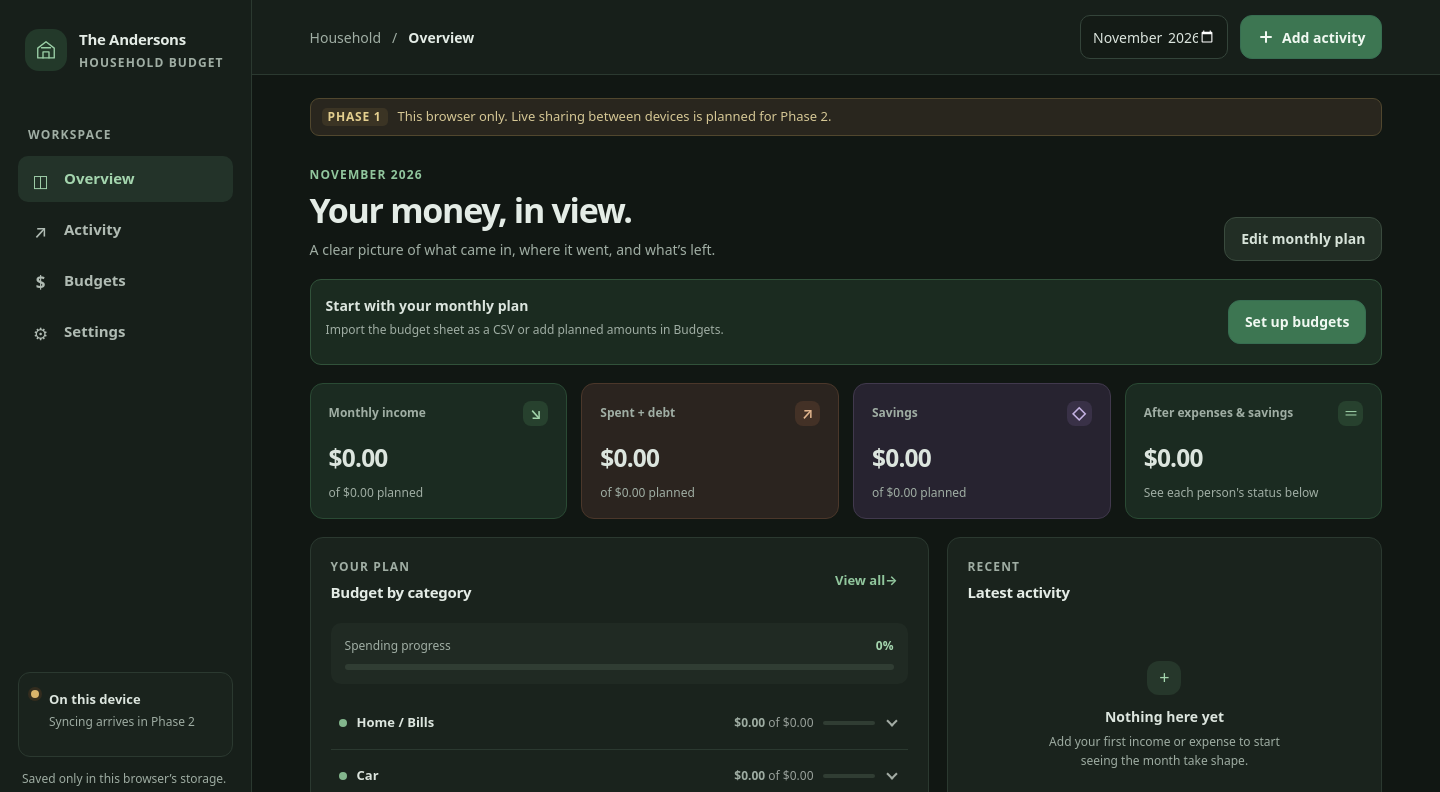
it: budget app phase 1 › allows navigating to the category budget editor
What coordinates should you click on to do the following:
click the button "$ Budgets"
I would click on:
 (126, 280)
Its box is [18, 258, 233, 304].
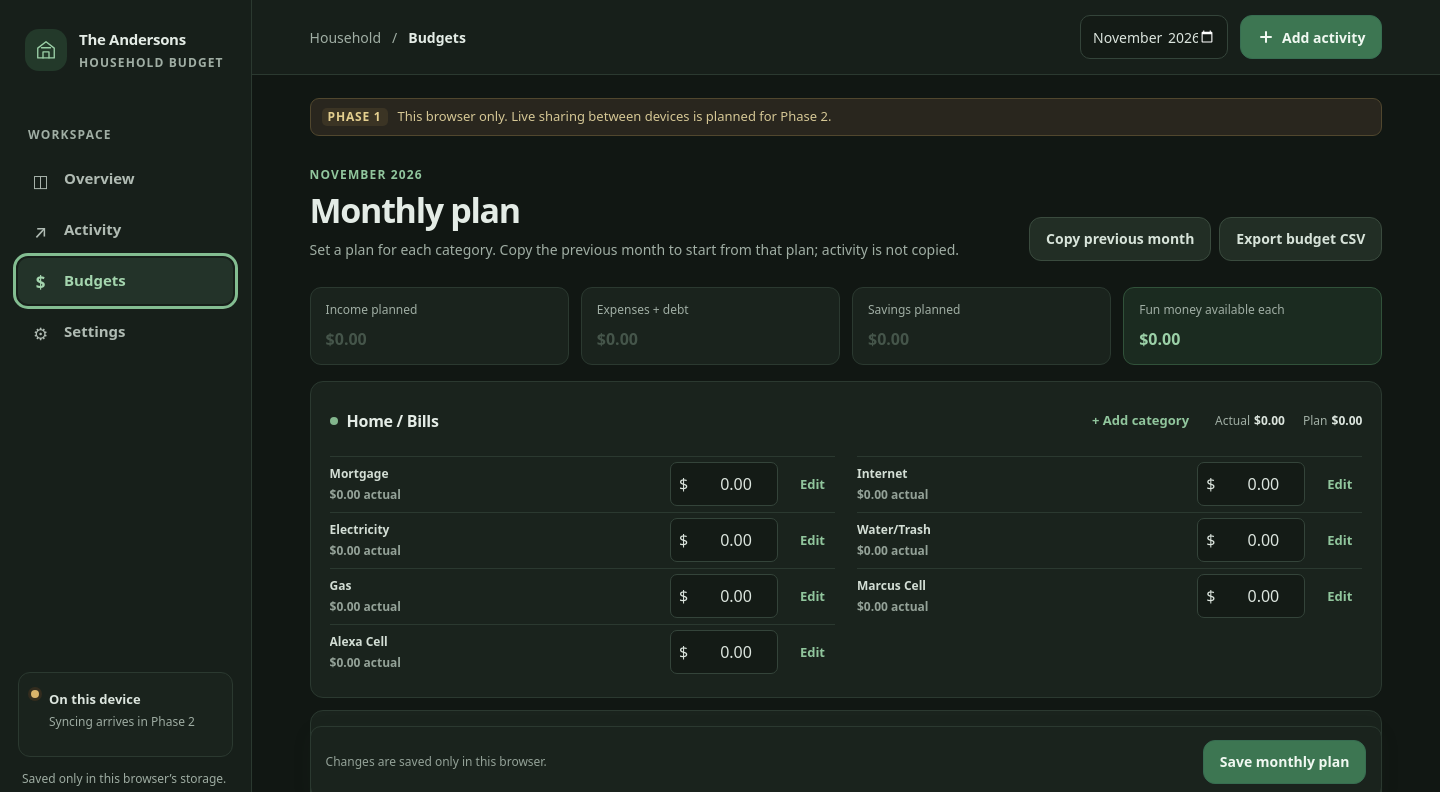
Expected: the heading "Monthly plan" is shown, [310, 187, 520, 233]
Expected: the number field named "Mortgage planned amount" holds "0", [691, 471, 769, 497]
